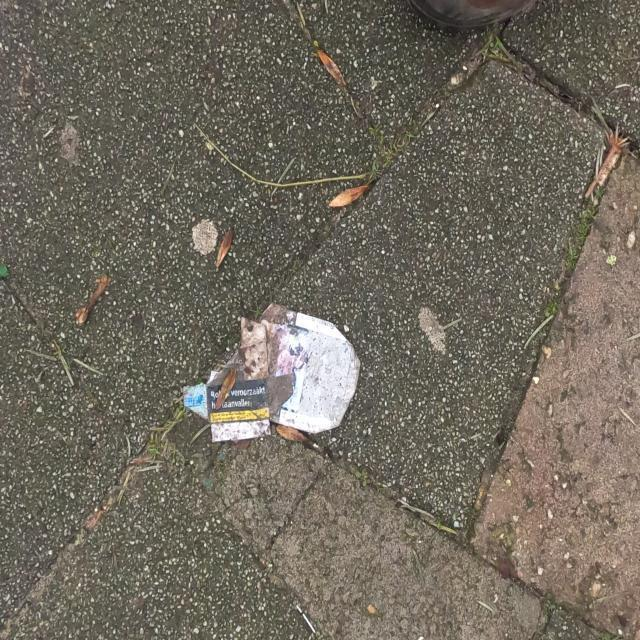Paper: (182, 302, 362, 444)
